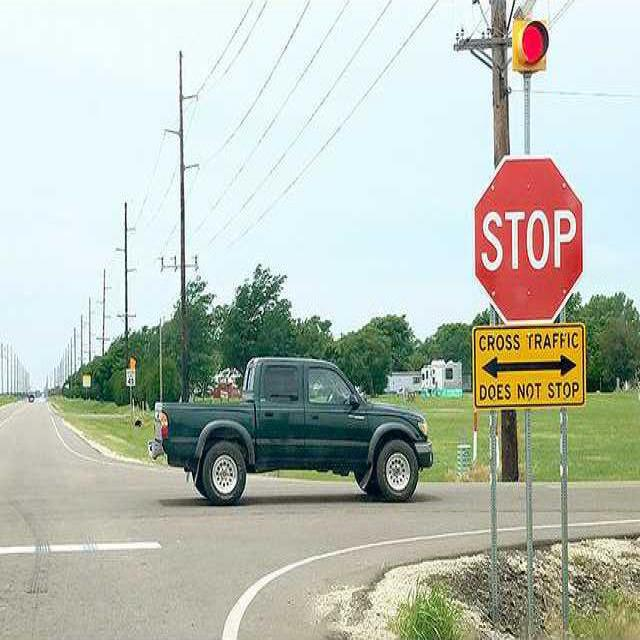stop-sign: (450, 138, 598, 316)
